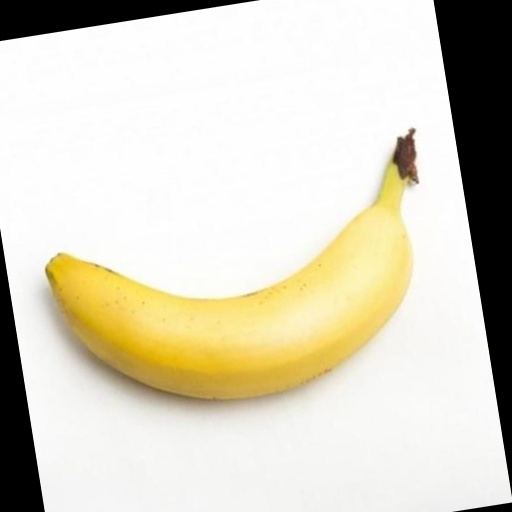fruit: (46, 130, 416, 399)
